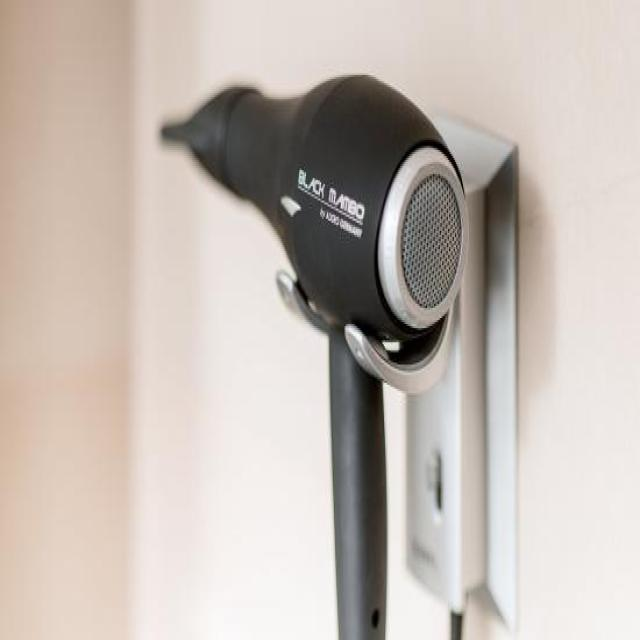dryer: (164, 37, 492, 635)
